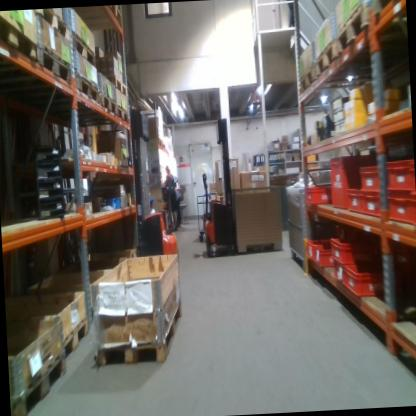pallet: (97, 297, 185, 369), (8, 345, 70, 416), (0, 11, 37, 69), (333, 2, 370, 60), (37, 43, 73, 88), (33, 8, 73, 46), (61, 311, 89, 358), (313, 35, 338, 81), (81, 6, 123, 31), (73, 70, 97, 108), (70, 33, 96, 68), (100, 72, 127, 103), (296, 67, 318, 99), (371, 0, 404, 19), (98, 93, 115, 119), (116, 102, 130, 128)
pallet_truck: (126, 99, 179, 258), (196, 117, 242, 259)
small_load_carrier: (330, 154, 380, 211), (344, 263, 408, 297), (332, 254, 380, 286), (332, 236, 381, 264), (385, 157, 412, 195), (387, 193, 414, 227), (305, 238, 335, 261), (363, 188, 383, 218), (306, 183, 332, 205), (360, 166, 379, 192), (346, 186, 364, 211), (316, 247, 334, 267), (409, 159, 414, 195), (411, 196, 416, 227)
stillage: (229, 182, 284, 254), (285, 185, 305, 273)
